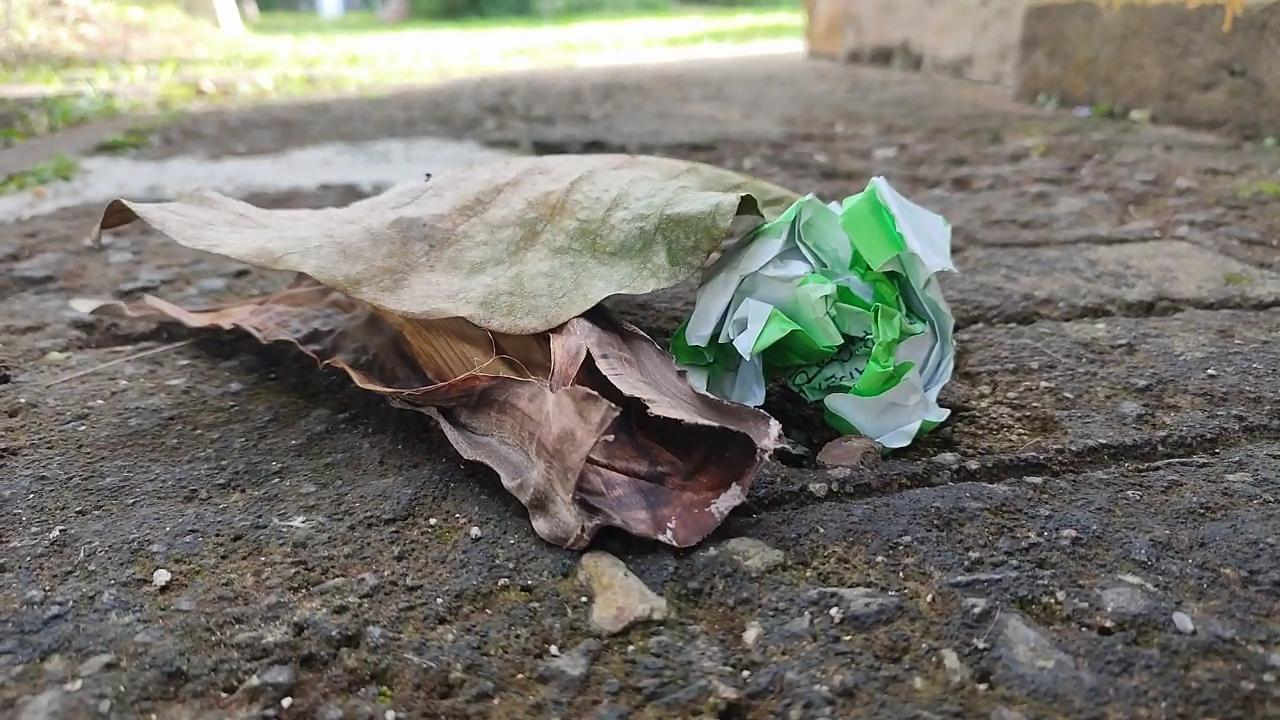Paper: (672, 171, 967, 456)
